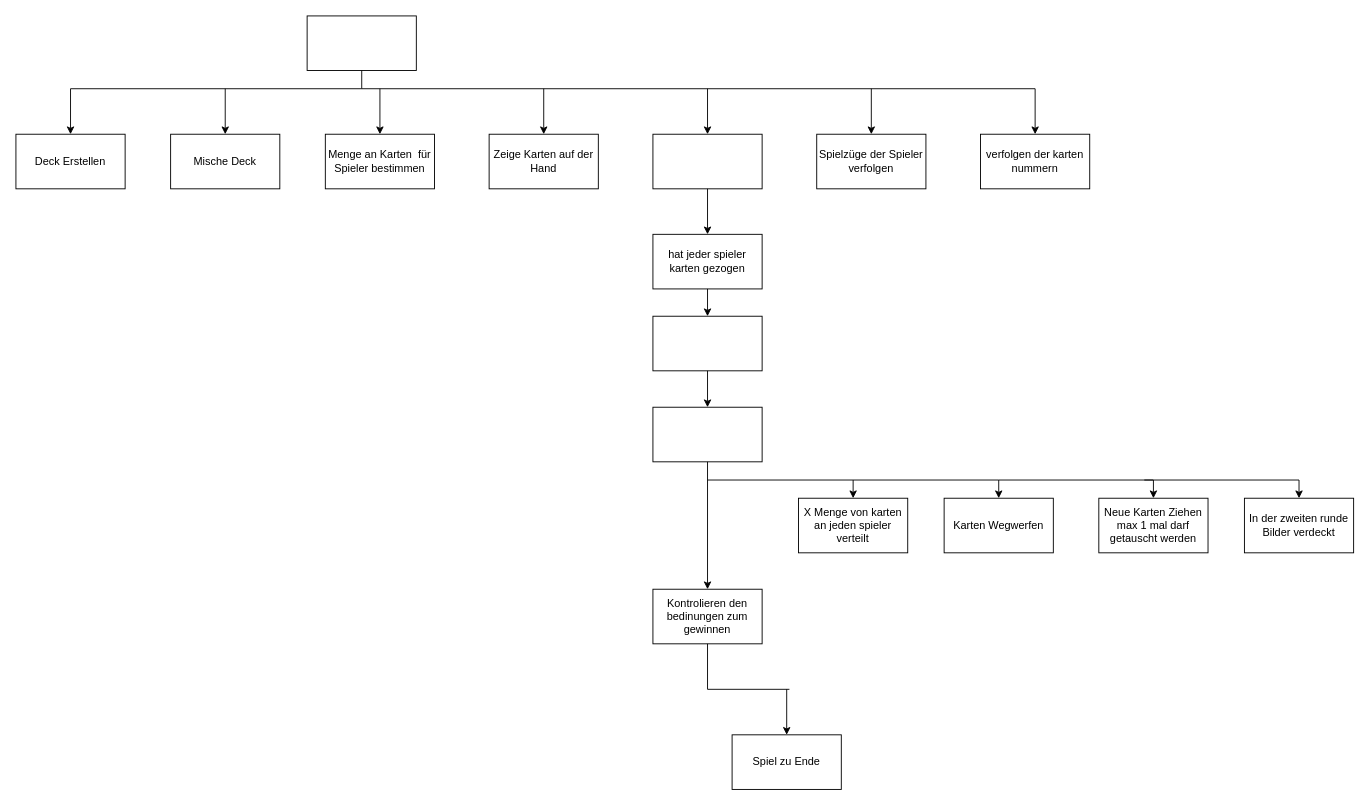
The diagram is 1370 pixels wide and 805 high, and some of its shapes have lost their labels. Each missing label, with the box of its shape:
Cego Spiel: (306, 15, 416, 71)
füge karten effekte hinzu: (652, 406, 762, 462)
Spieler Karten: (652, 133, 762, 189)
Validate card played: (652, 315, 762, 371)
